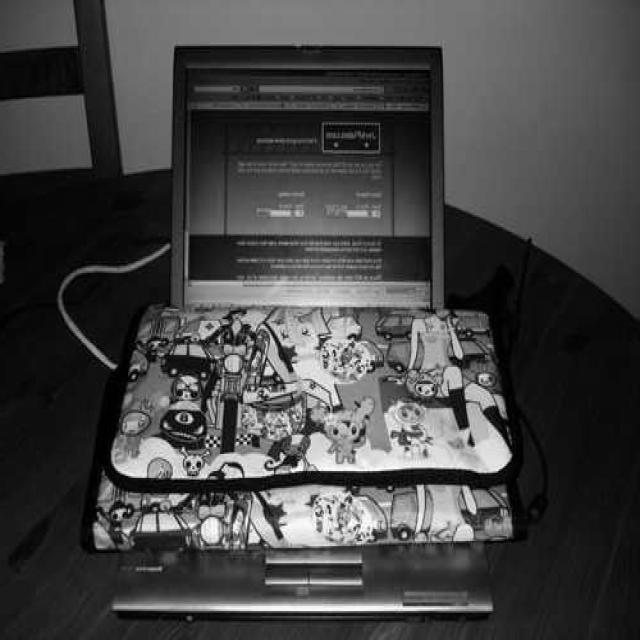laptop: (130, 45, 455, 635)
